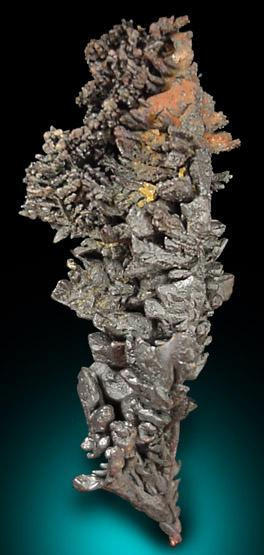copper: (21, 16, 239, 548)
